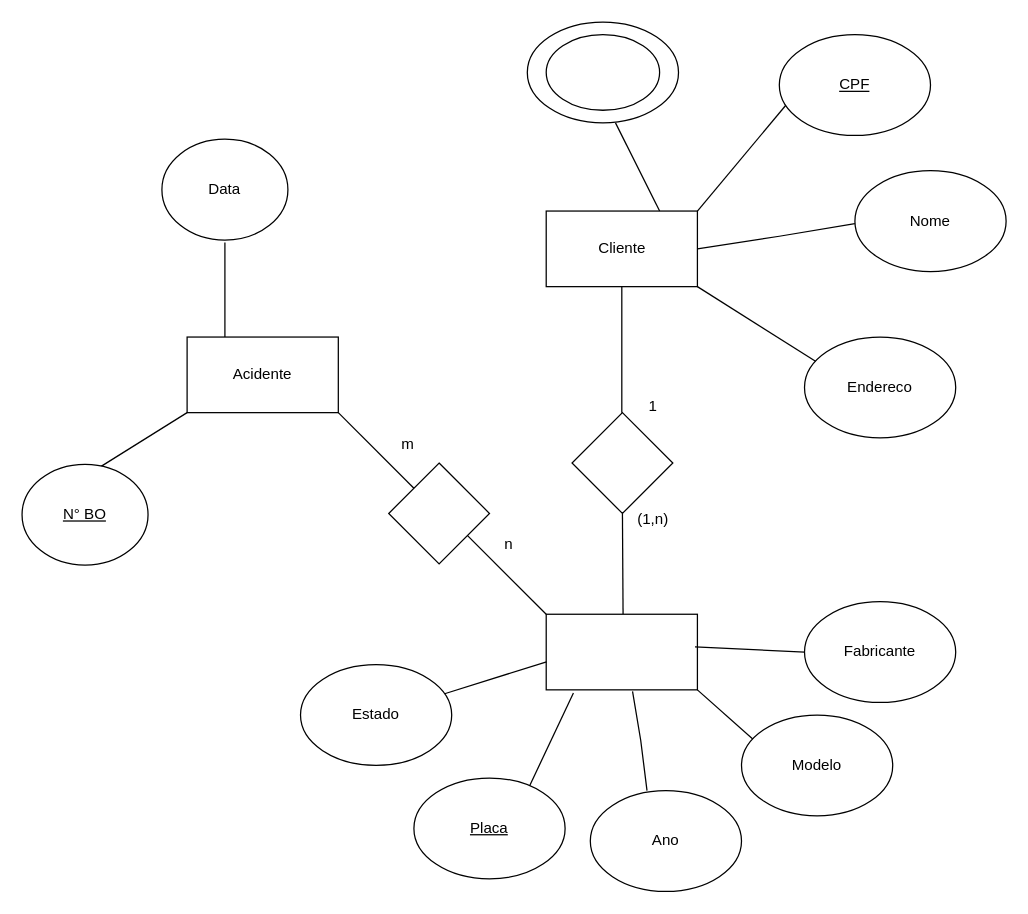
The diagram is 1028 pixels wide and 914 high, and some of its shapes have lost their labels. Each missing label, with the centre of its shape:
"Carro" belongs at (x=621, y=651).
"Envolve" belongs at (x=438, y=513).
"Telefones" belongs at (x=602, y=71).
"TEM" belongs at (x=622, y=462).
